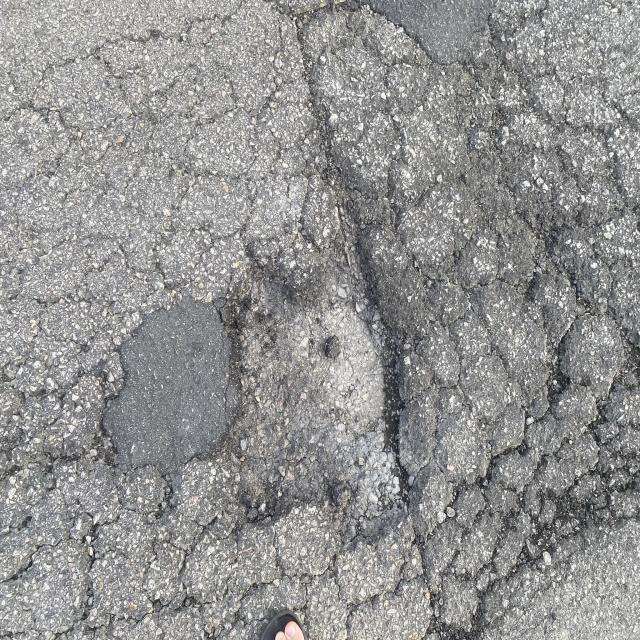Pothole: (186, 228, 523, 574)
